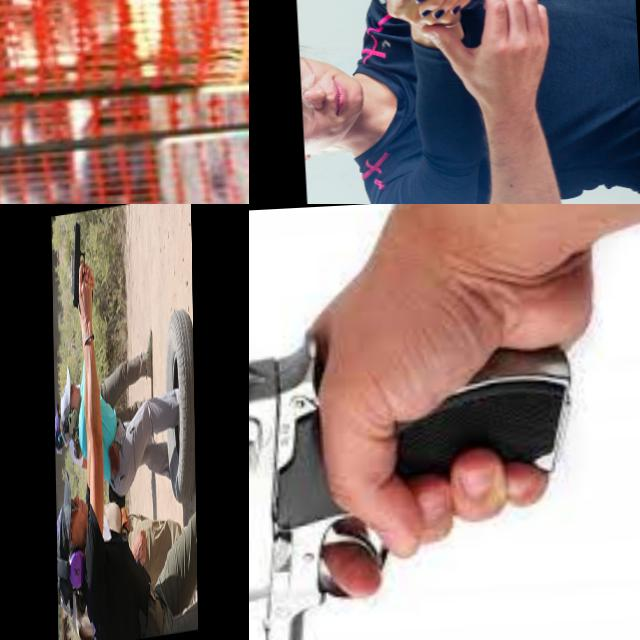handgun: (249, 310, 598, 640), (347, 0, 490, 41), (0, 0, 67, 85), (71, 214, 94, 308)
